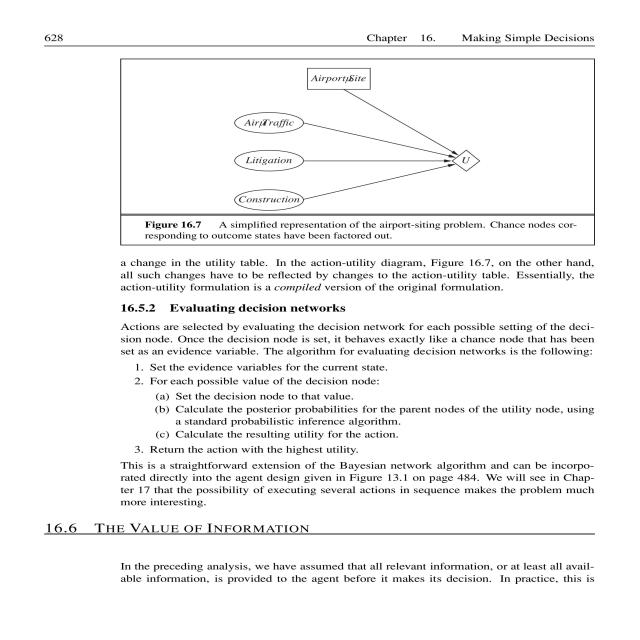diagram: (104, 54, 605, 253)
